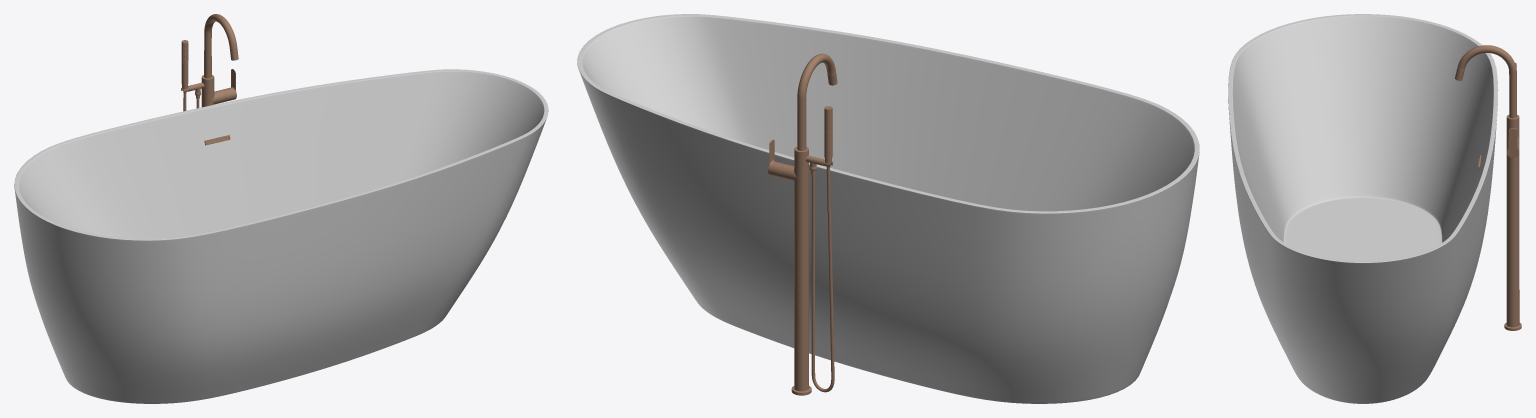
File: BathTub_001.gltf
3 renders of one model, left to right at view 1: azimuth 30°, elevation 25°; view 2: azimuth 150°, elevation 25°; view 3: azimuth 270°, elevation 25°, orthographic. The views are drawn at different scales.
Visible parts, largest first — view 1: Bathtub_001; view 2: Bathtub_001; view 3: Bathtub_001.
Boxes of the visible parts, box(x1,y1,x2,y2) form: Bathtub_001: box(14, 14, 548, 403); Bathtub_001: box(577, 14, 1199, 403); Bathtub_001: box(1228, 14, 1521, 403).
Bounding box in the file's own units: 0.6249 × 0.3299 × 0.3114.
1 material, 1 textured.
